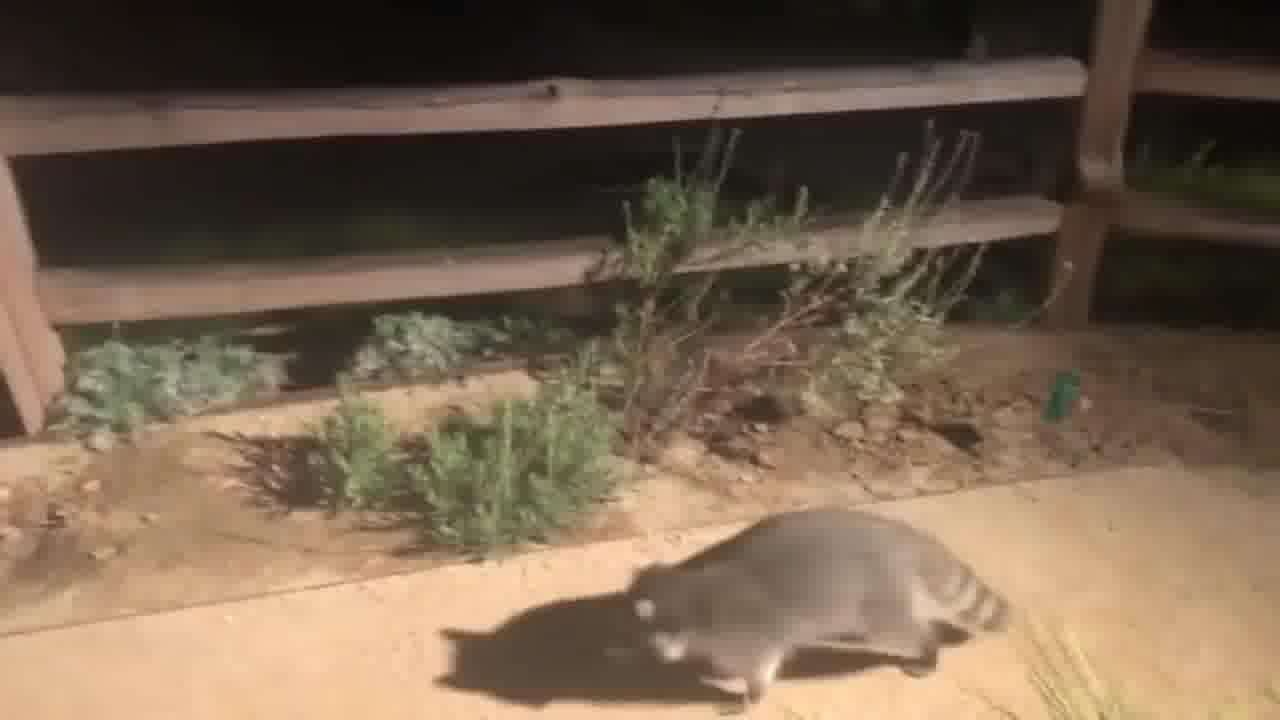raccoon: (626, 510, 1022, 706)
